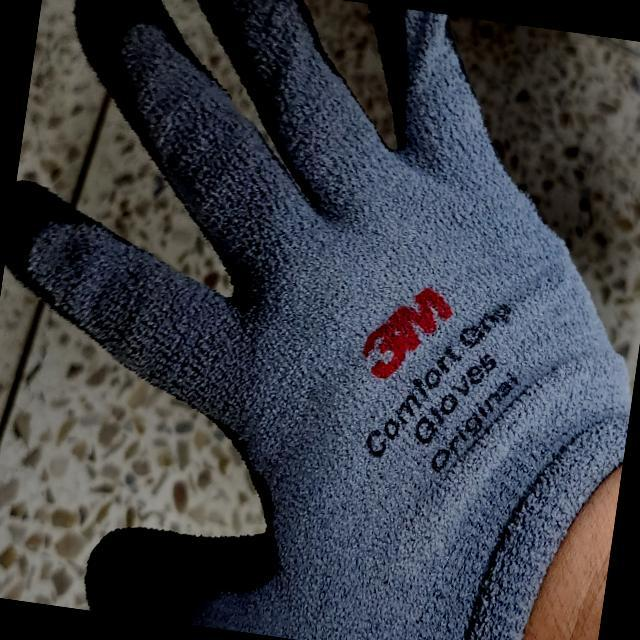Gloves: (0, 0, 639, 636)
